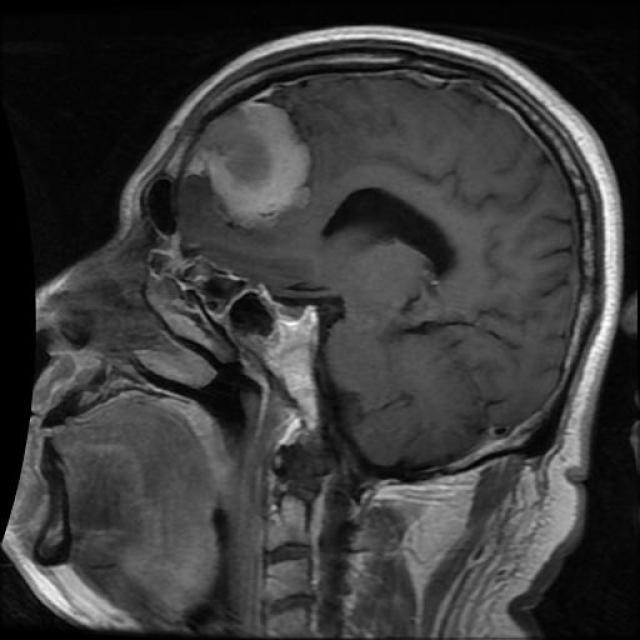meningioma: (194, 104, 309, 229)
